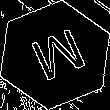M_SE: (21, 23, 89, 87)
